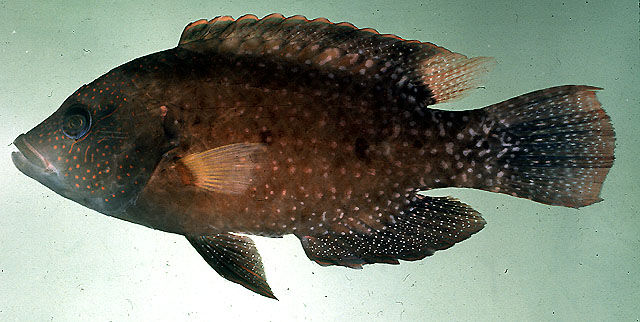fish: (10, 13, 616, 301)
